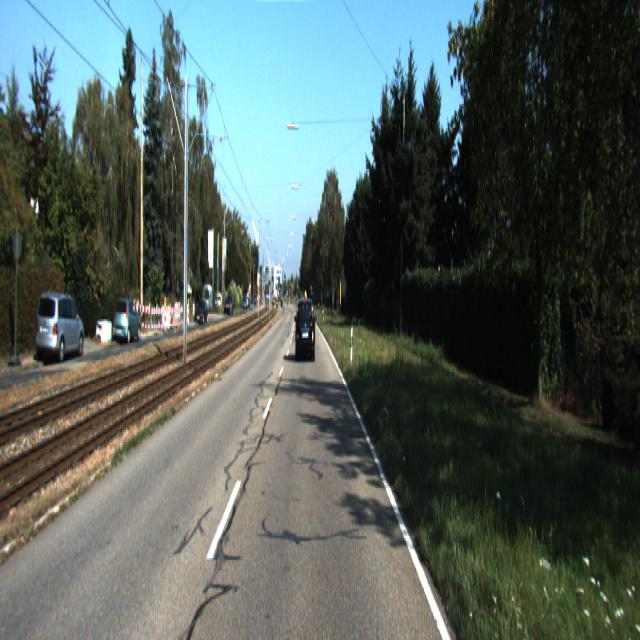Car: (36, 288, 85, 361), (112, 300, 142, 348), (296, 298, 316, 362)
